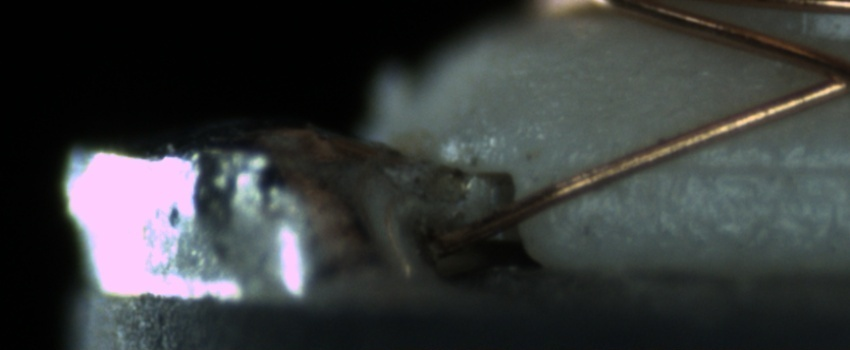CL: (794, 44, 849, 103)
DL: (634, 136, 850, 197)
